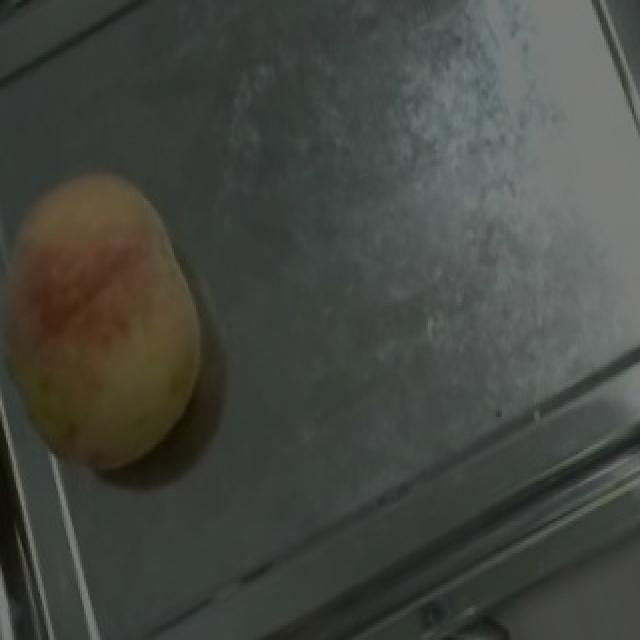Fruit: (0, 132, 248, 501)
